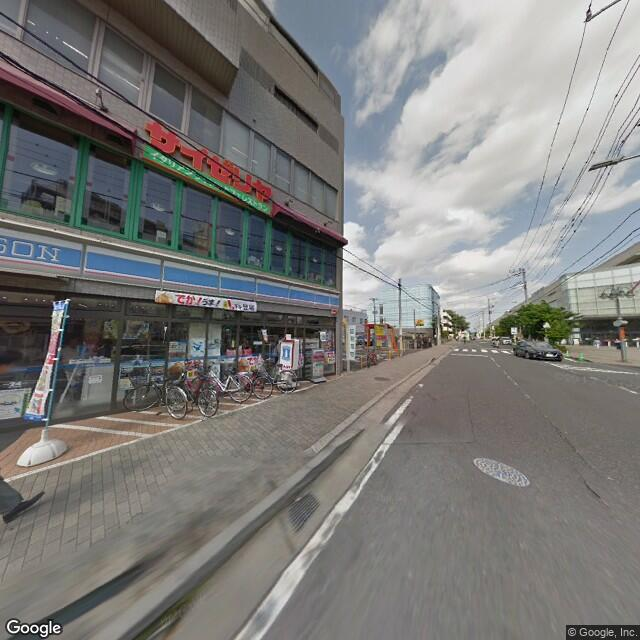lawson: (1, 225, 340, 317)
